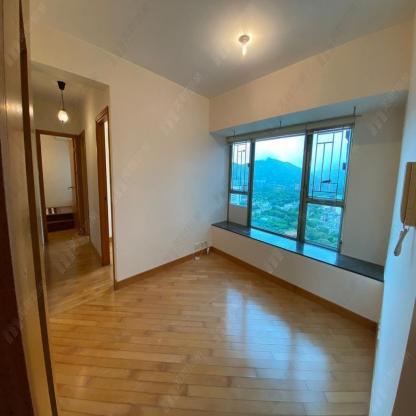Windowsill: (211, 89, 409, 284)
